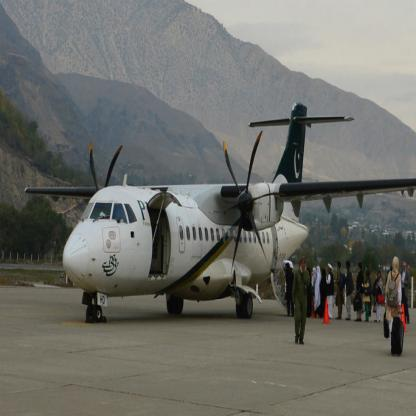CIV_Plane: (21, 100, 415, 320)
